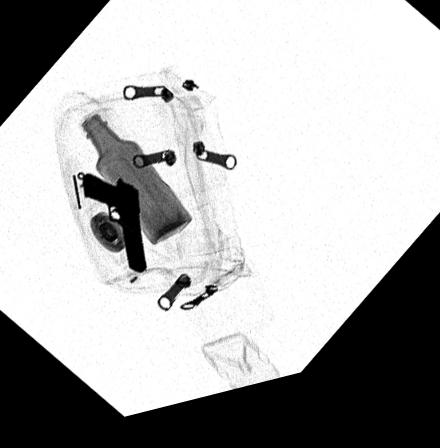Gun: (83, 177, 146, 282)
